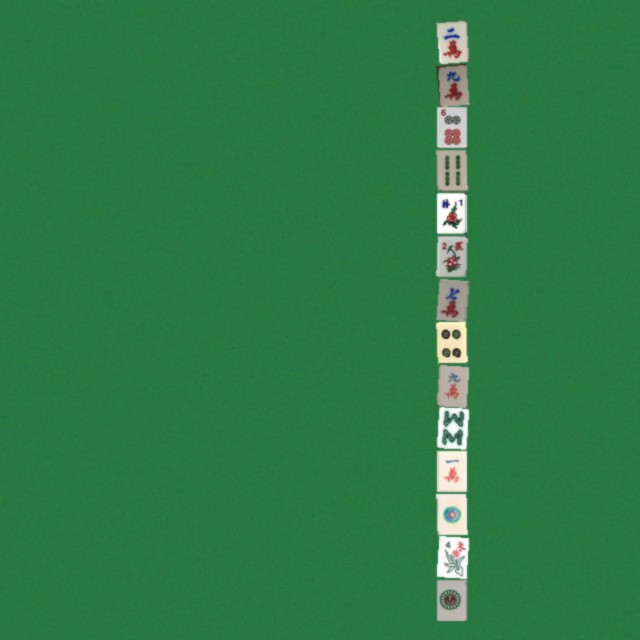tile: (436, 20, 466, 61), (436, 63, 466, 104), (436, 106, 466, 147), (436, 149, 466, 190), (436, 192, 466, 233), (436, 235, 466, 276), (436, 278, 466, 319), (436, 321, 466, 362), (436, 364, 466, 405), (436, 407, 466, 448), (436, 450, 466, 491), (436, 493, 466, 534), (436, 536, 466, 577), (436, 579, 466, 620)
